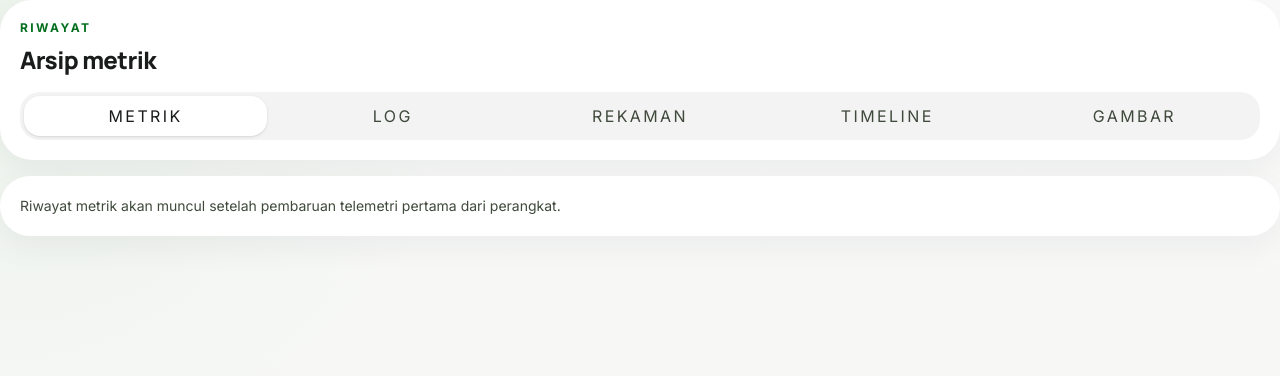
HistoryPanel › recordings tab content › renders recording list from the fetch response
The image size is (1280, 376).
Click the button "Rekaman" at (640, 116), box [518,96,762,136]
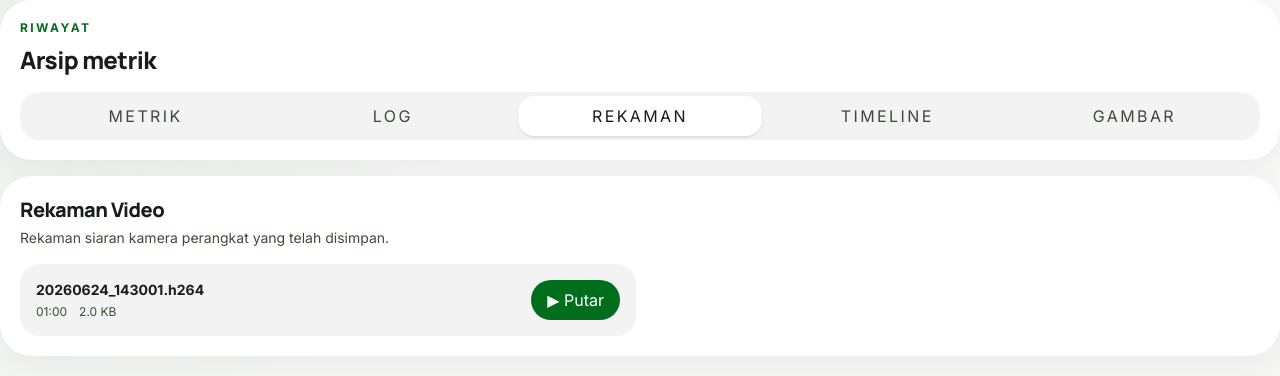
Check: the text "20260624_143001.h264" is shown, box [36,280,204,300]
